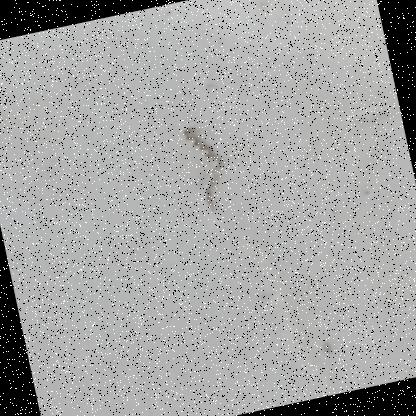Crack: (143, 109, 263, 235)
